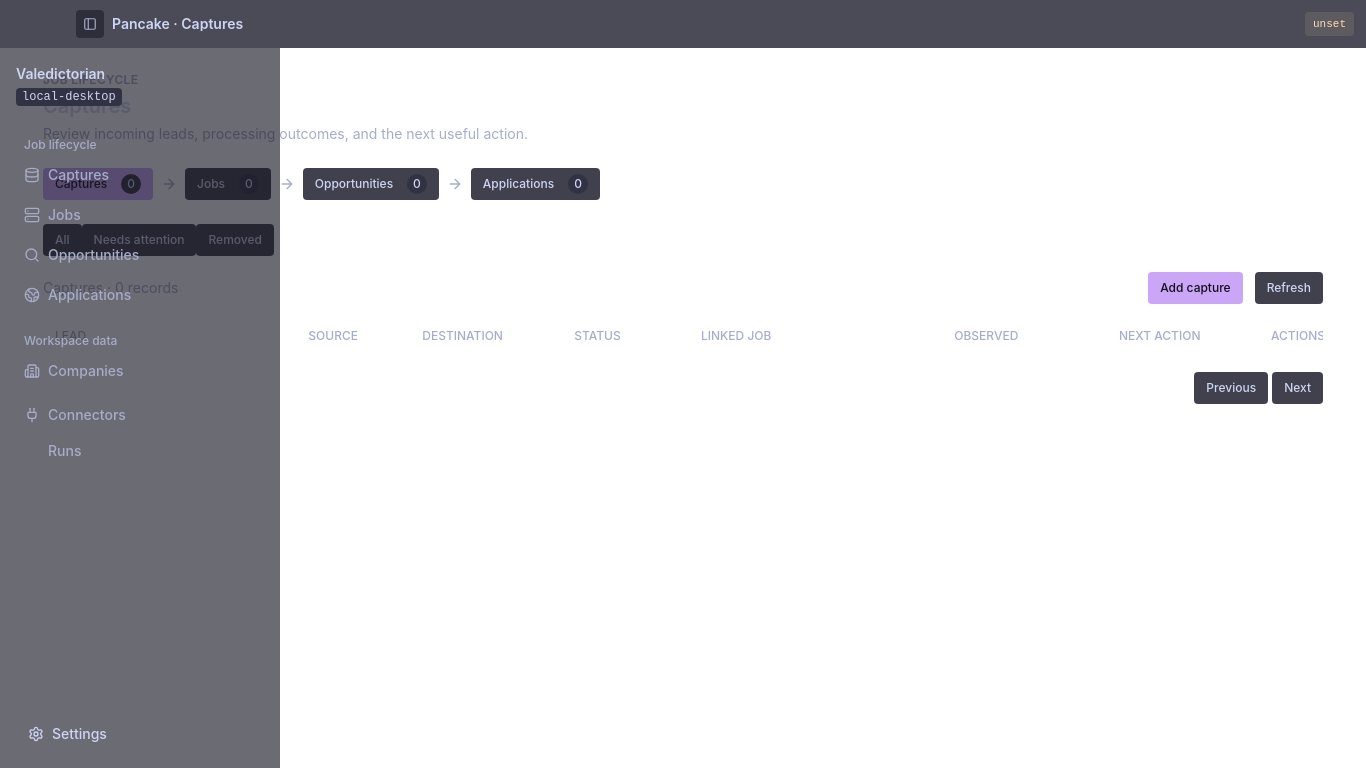
Scenario: App sidebar navigation › opens quick settings and routes its footer action to the full settings page
Expected: the table named "Captures" is shown, [43,316,1323,356]
Click the button "Settings" at (140, 734), box [16,716,264,752]
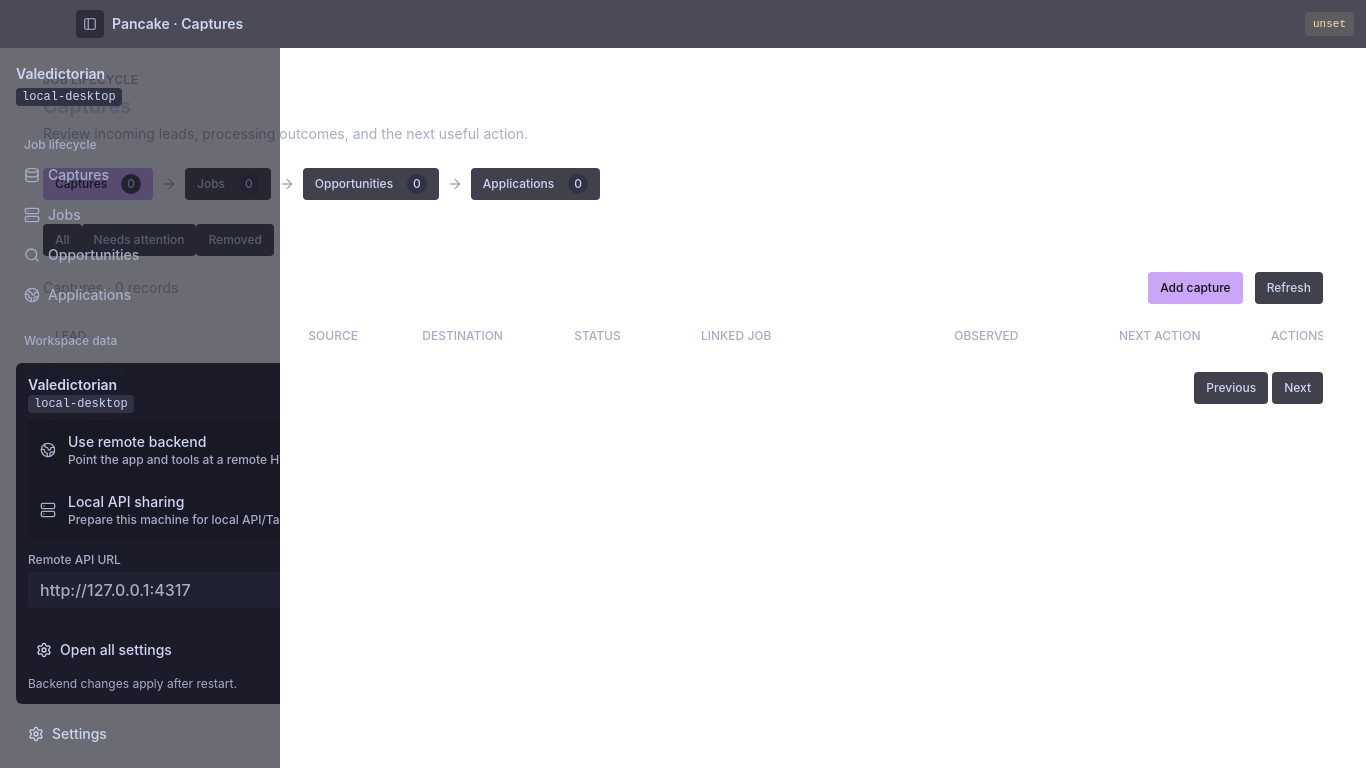
Now the button "Open all settings" is shown, box [28,632,280,668]
Click the button "Open all settings" at (116, 650), box [28,632,388,668]
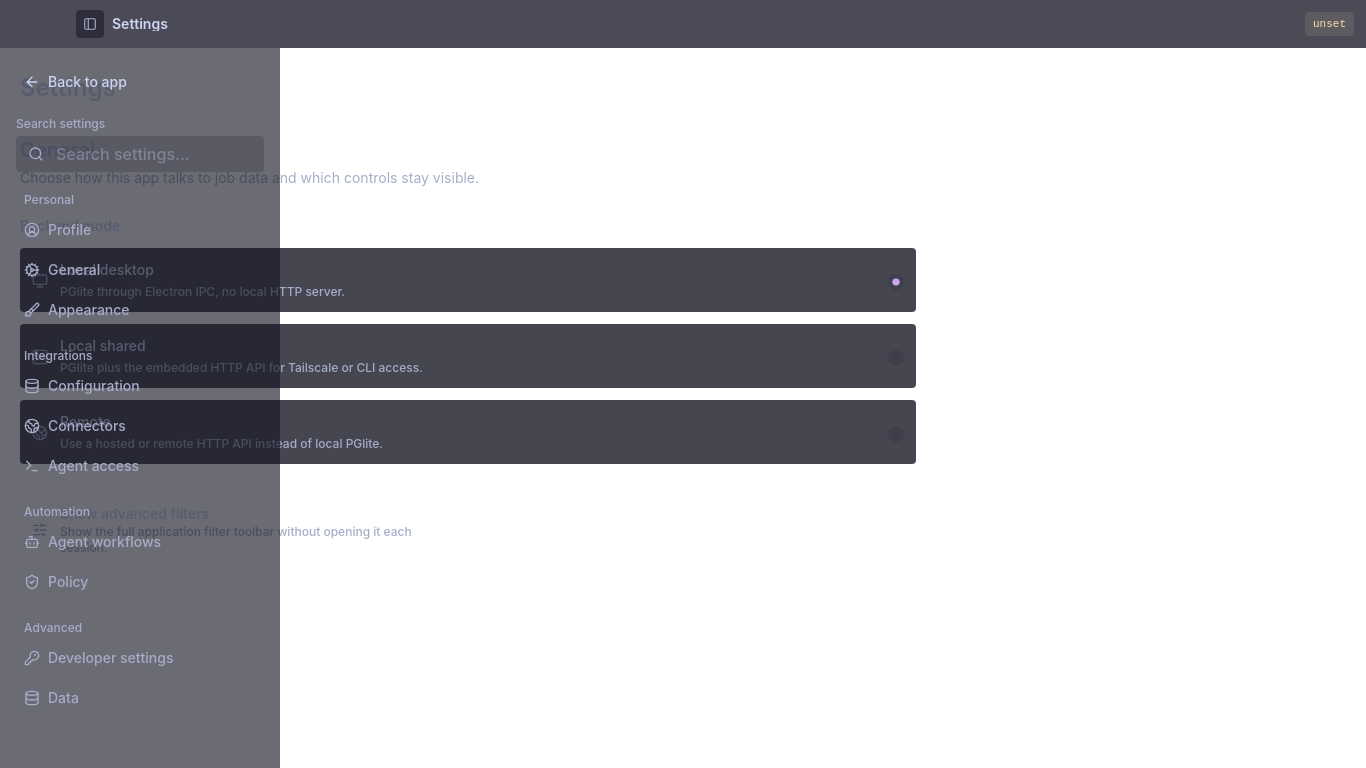
Now the heading "Settings" is shown, box [20,73,116,102]
Now the element named "Settings navigation" is shown, box [0,48,280,767]
